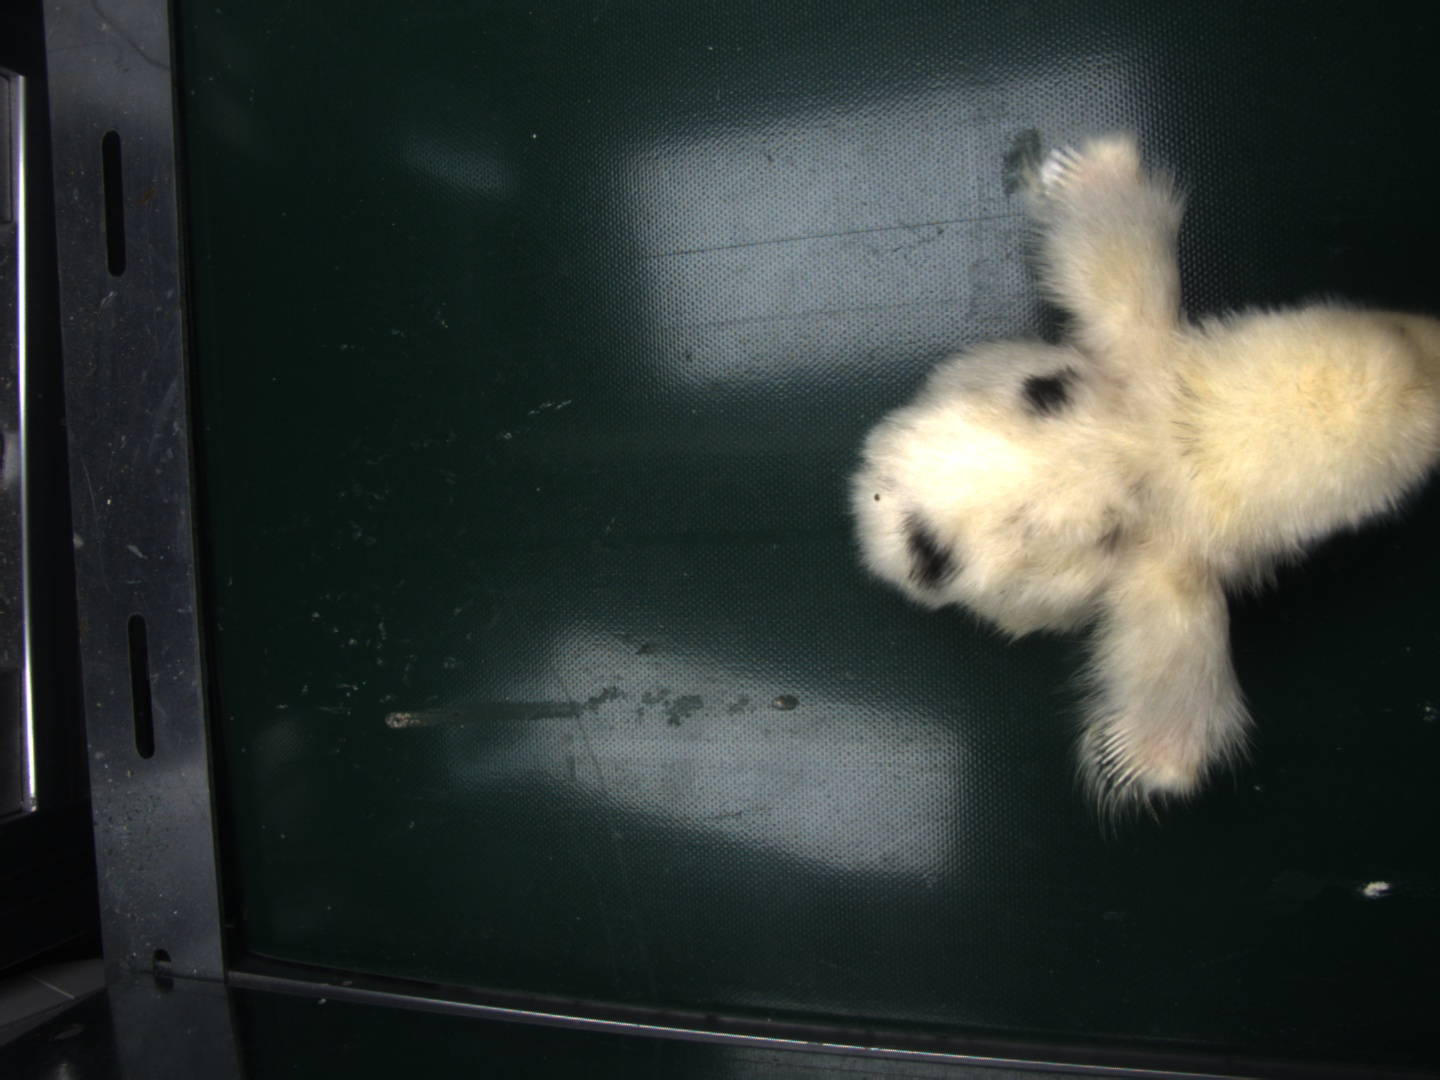male: (1098, 712, 1147, 793)
